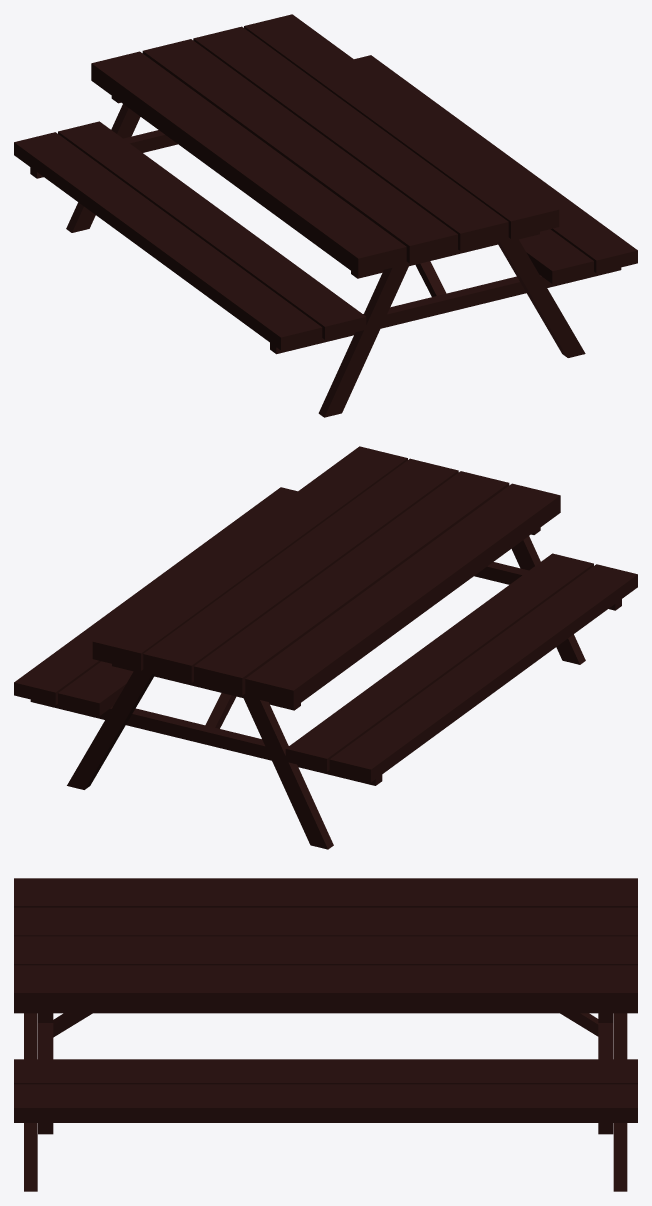
Rendered from table.fbx.
3 views of the same model, one above another, from view 1: azimuth 30°, elevation 25°; view 2: azimuth 150°, elevation 25°; view 3: azimuth 270°, elevation 25° (orthographic). The views are drawn at different scales.
Visible parts, largest first — view 1: Table; view 2: Table; view 3: Table.
Part boxes in pixels (x1,y1,x2,y2): Table: (14, 14, 637, 417); Table: (14, 446, 637, 849); Table: (14, 878, 637, 1191).
Bounding box in the file's own units: 593 × 246 × 768.
